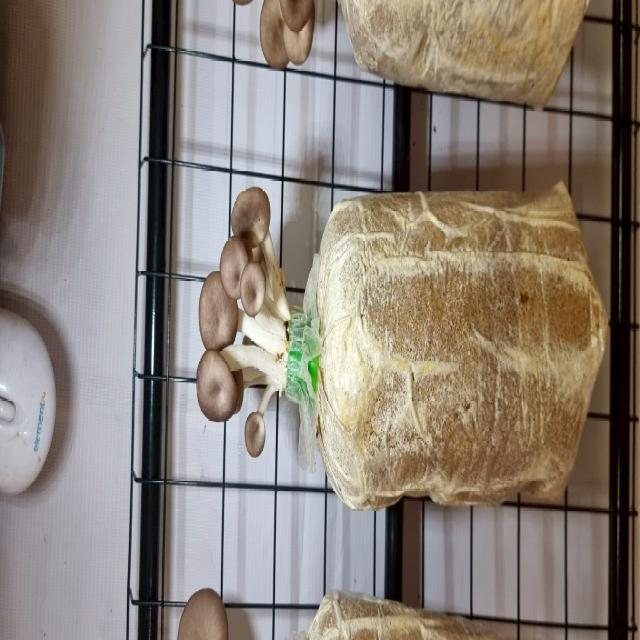normal: (189, 265, 294, 370), (222, 187, 284, 319), (196, 337, 276, 433), (241, 396, 274, 476)
